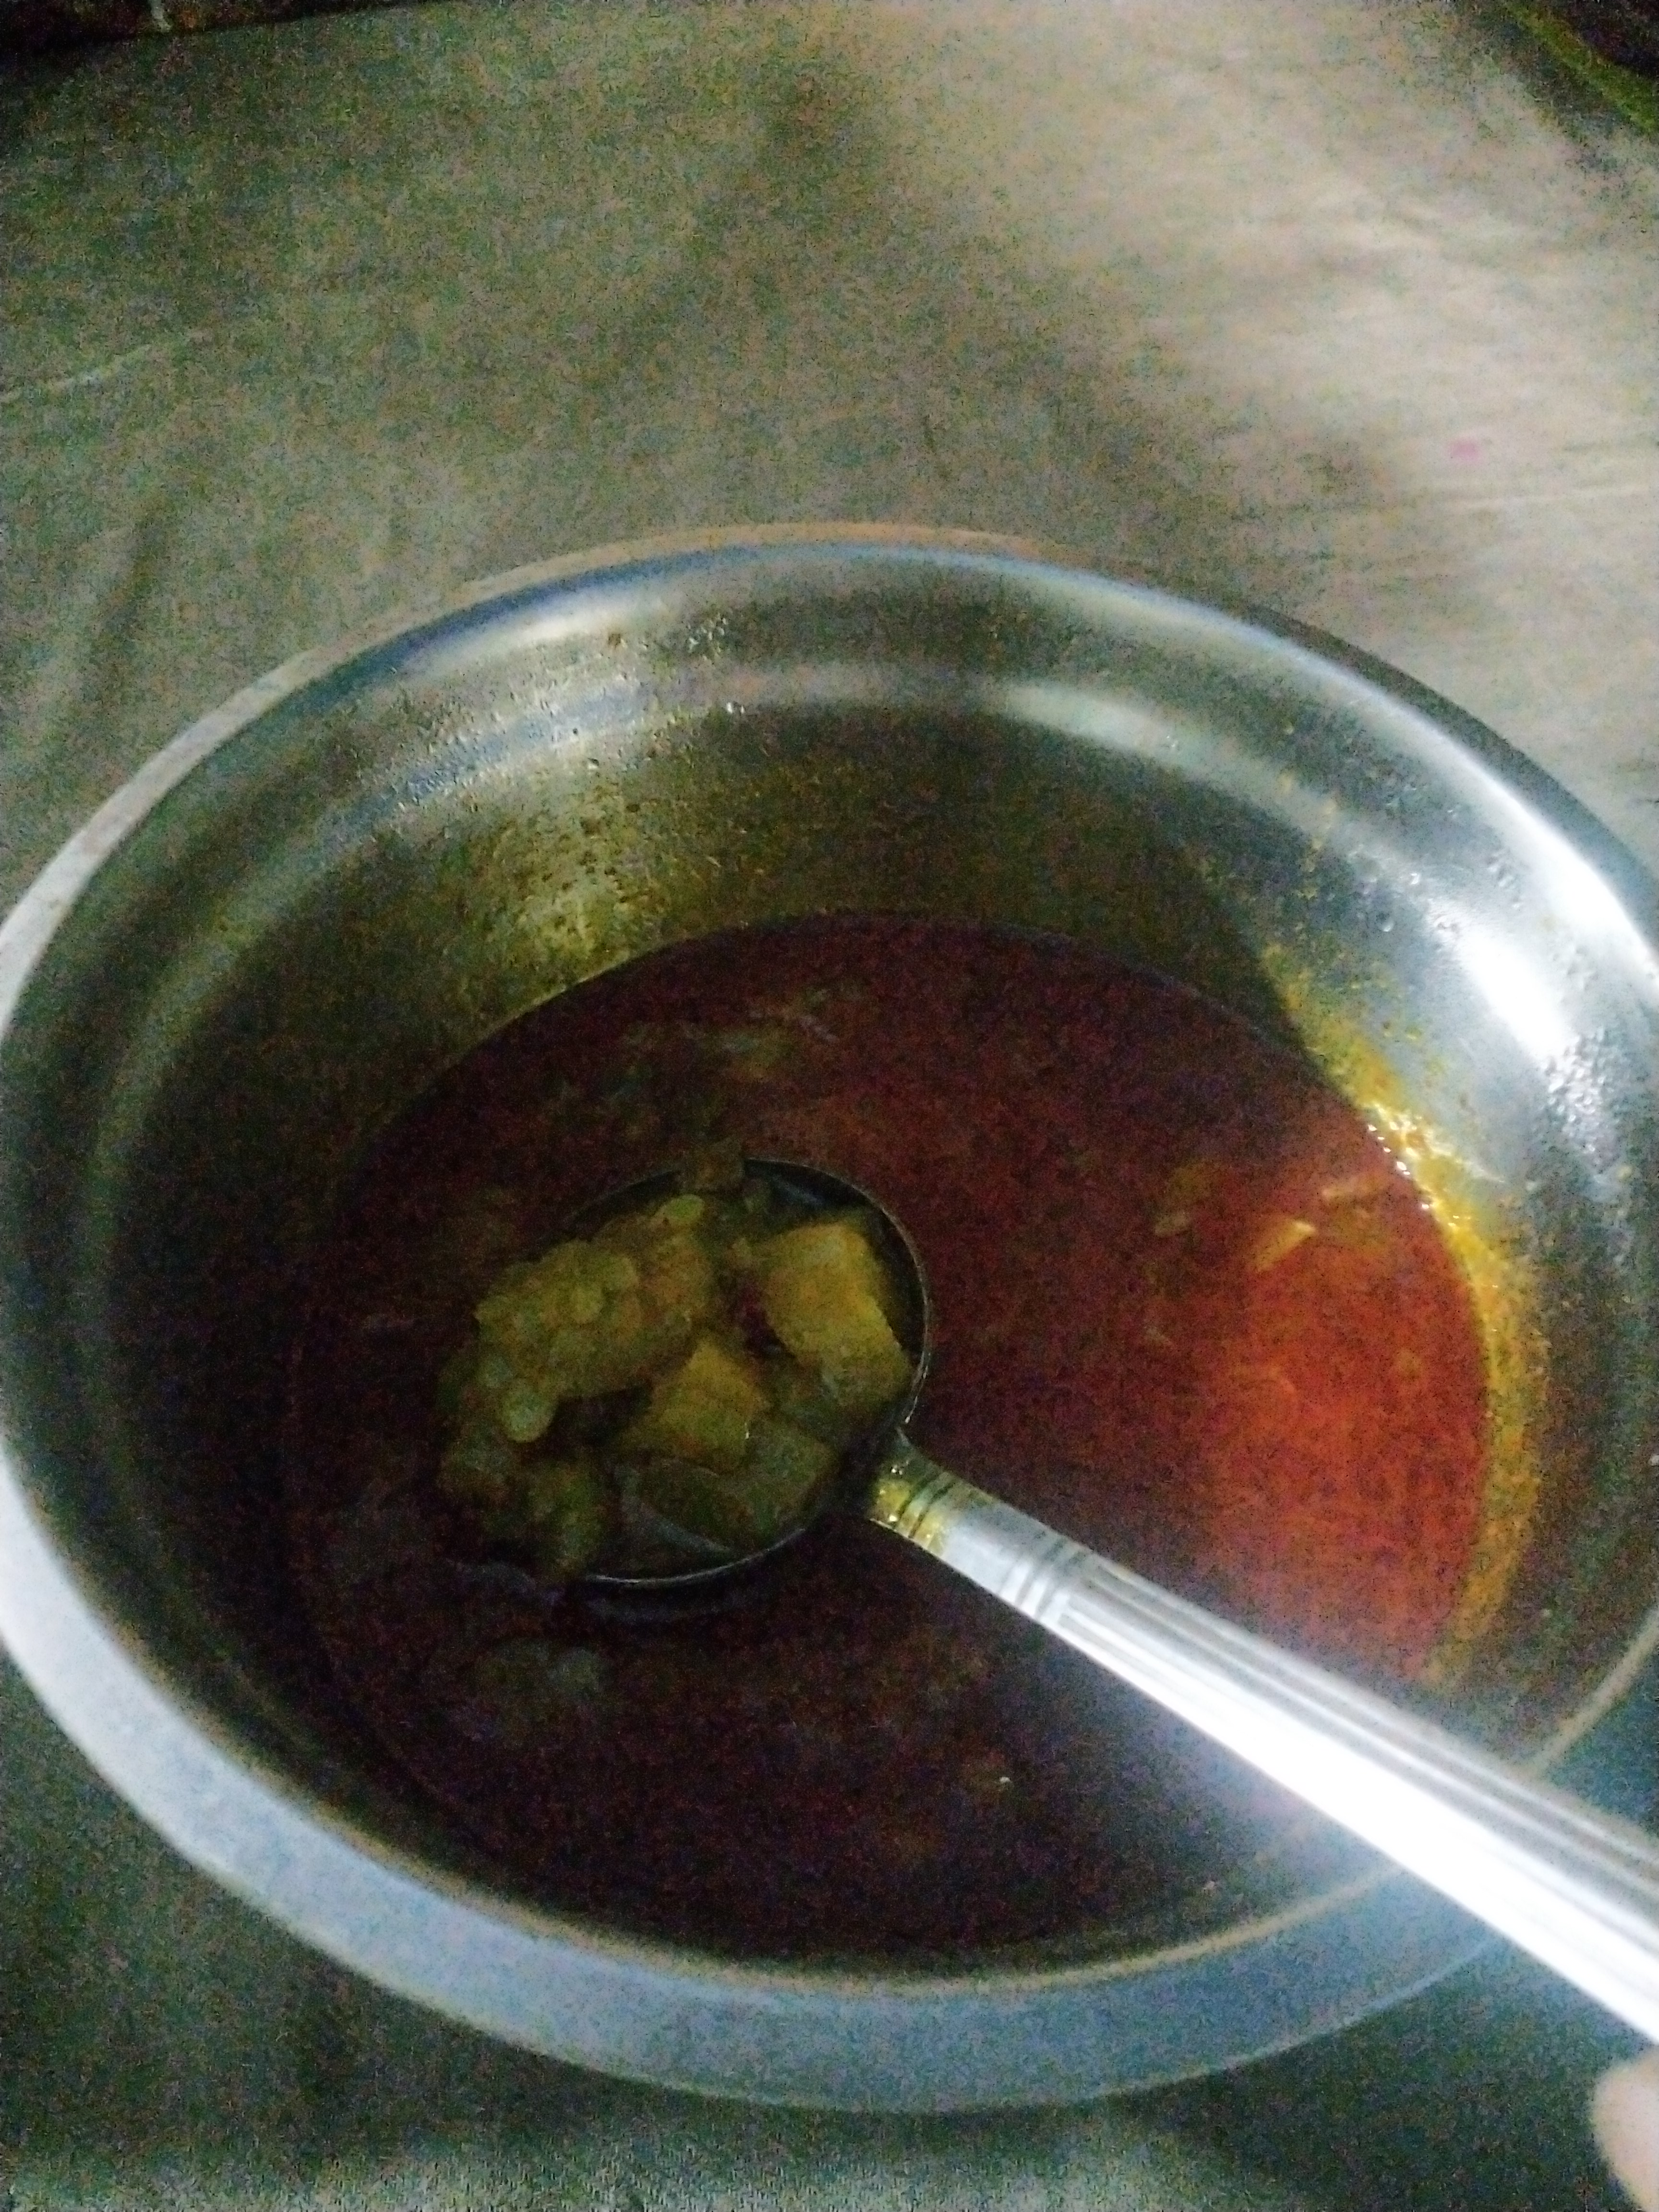food: (249, 897, 1513, 1963)
